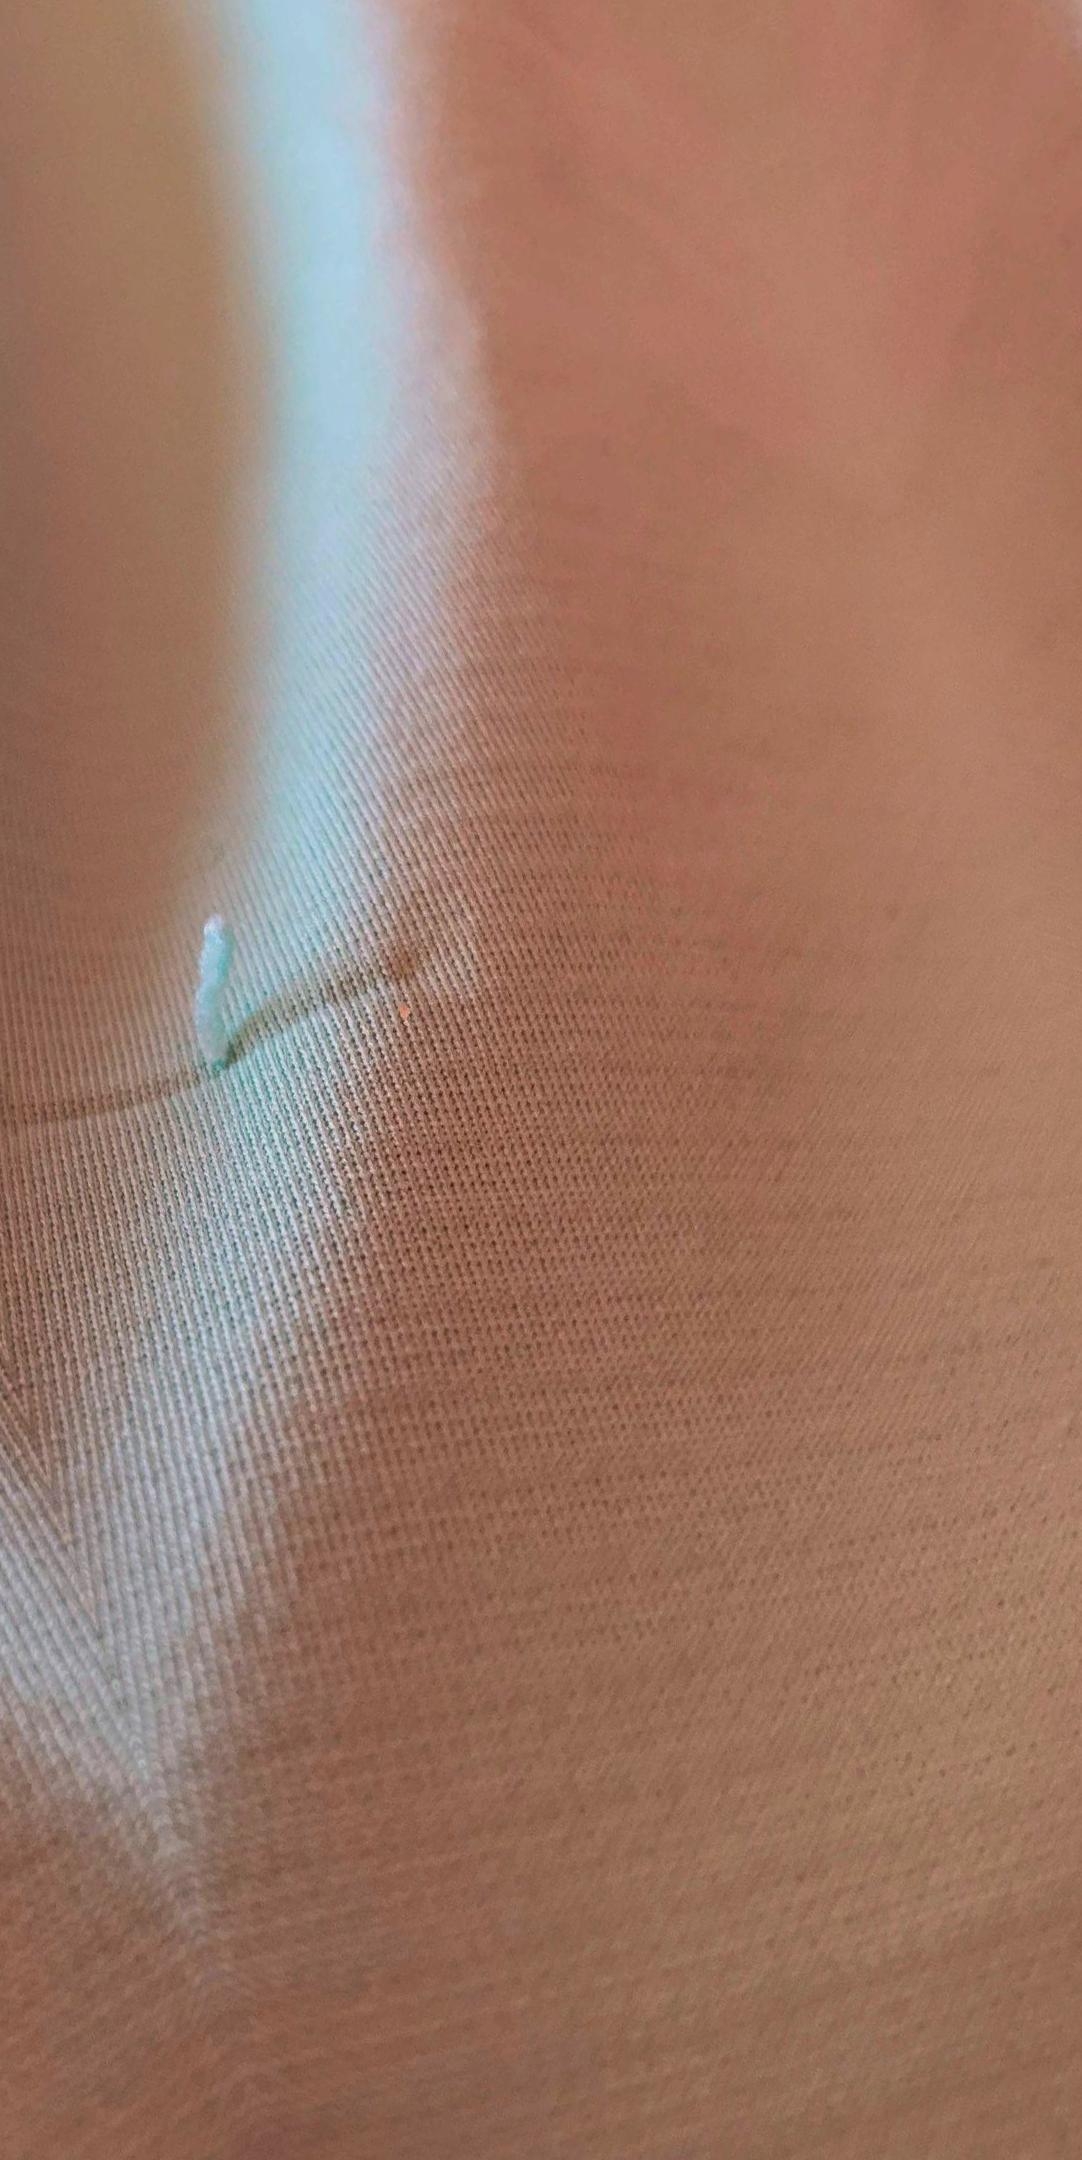snag: (116, 872, 346, 1131)
